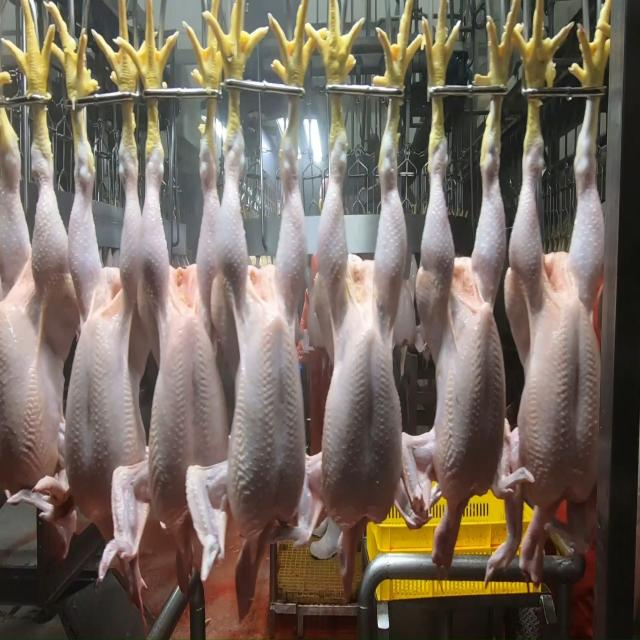chicken: (505, 98, 611, 520), (134, 119, 226, 571), (218, 105, 313, 535), (62, 100, 150, 551), (413, 129, 507, 500), (323, 114, 397, 529), (0, 112, 71, 498)
